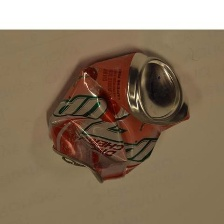can: (35, 47, 196, 187)
